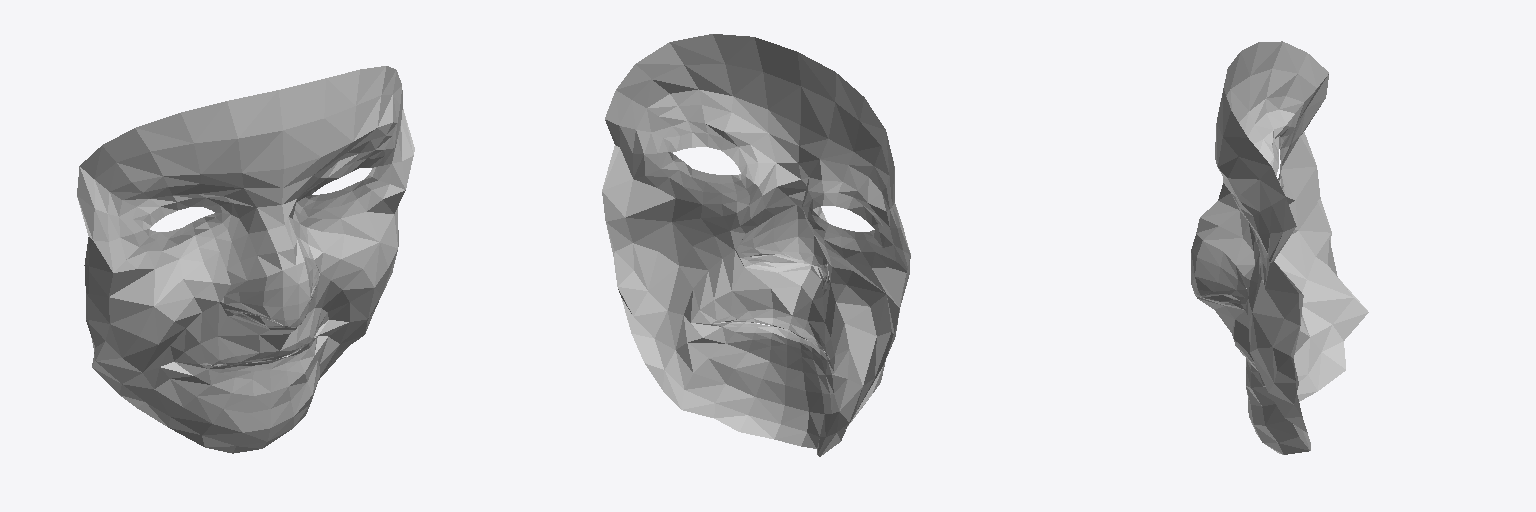
File: granny.obj
3 renders of one model, left to right at view 1: azimuth 30°, elevation 25°; view 2: azimuth 150°, elevation 25°; view 3: azimuth 270°, elevation 25°, orthographic.
Visible parts, largest first — view 1: MyMesh; view 2: MyMesh; view 3: MyMesh.
Boxes of the visible parts, box(x1,y1,x2,y2) form: MyMesh: box(77, 66, 414, 453); MyMesh: box(602, 34, 910, 456); MyMesh: box(1191, 41, 1368, 454).
Size of the model in its own units: 0.3539 by 0.4079 by 0.175.